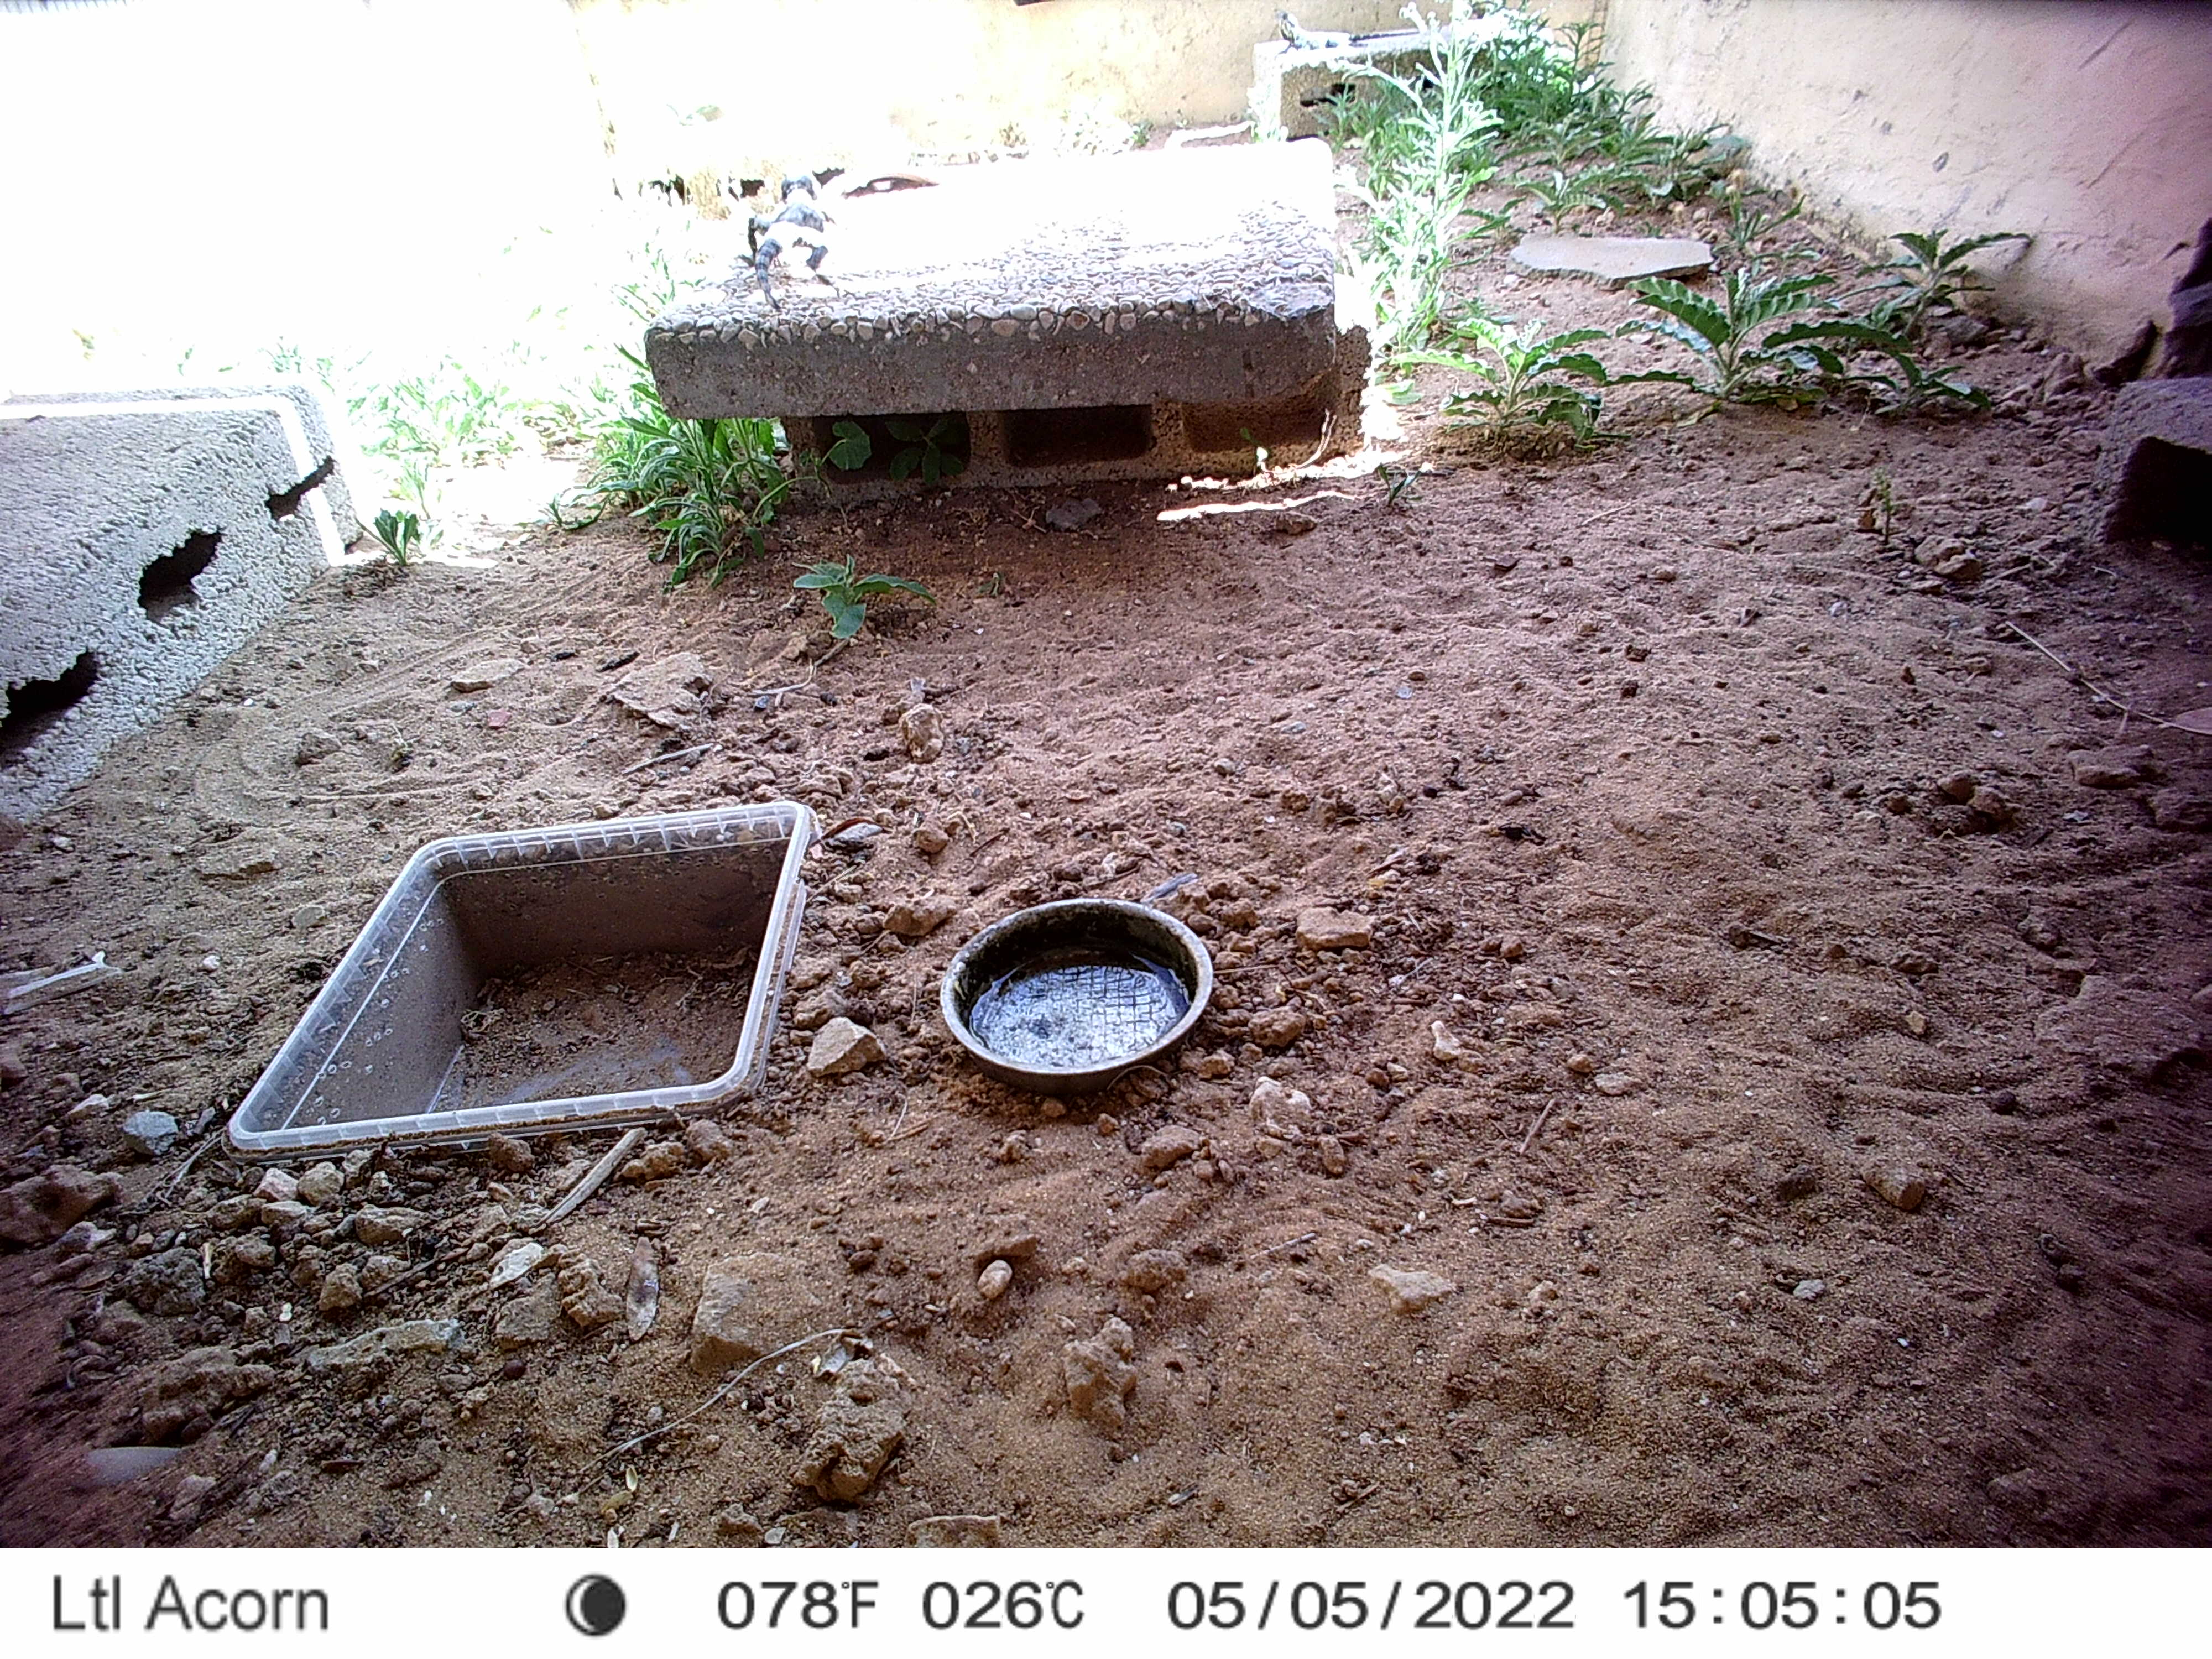lizard: (733, 166, 843, 317), (1270, 7, 1386, 51)
